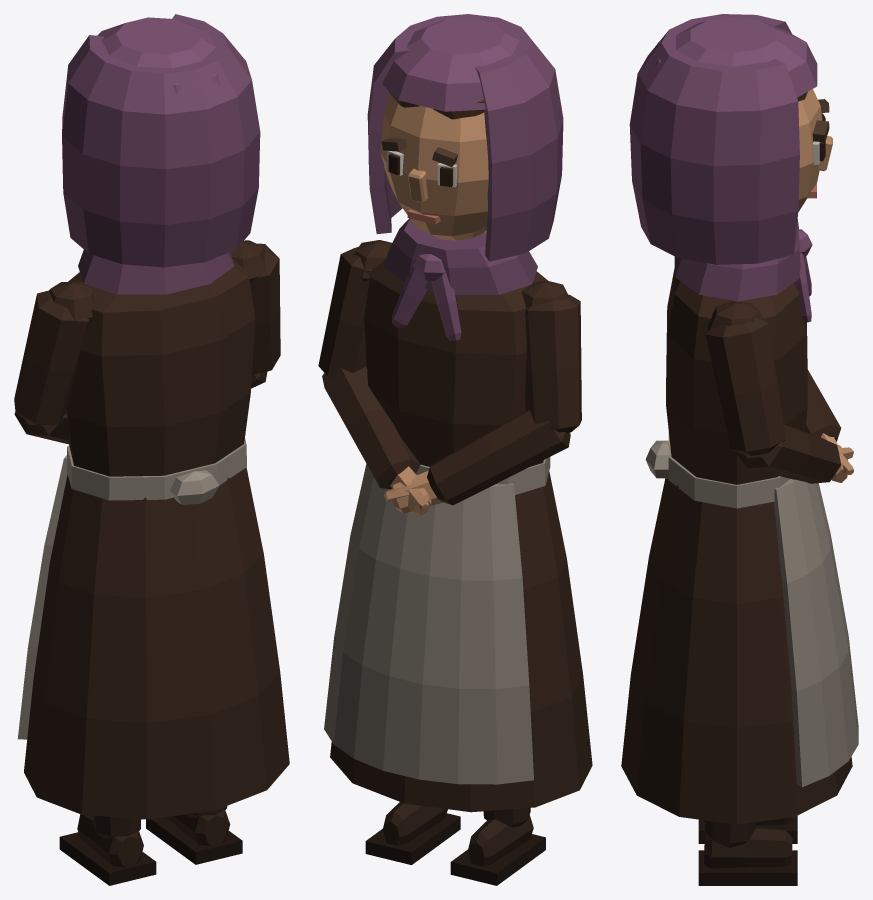
The model's file is chr_helena.glb.
3 views of the same model, side by side, from view 1: azimuth 30°, elevation 25°; view 2: azimuth 150°, elevation 25°; view 3: azimuth 270°, elevation 25° (orthographic).
Parts seen in each view (by area): view 1: chr_helena_stand; view 2: chr_helena_stand; view 3: chr_helena_stand.
Part boxes in pixels (x1,y1,x2,y2): chr_helena_stand: (14, 14, 289, 885); chr_helena_stand: (318, 14, 592, 885); chr_helena_stand: (621, 14, 858, 885).
Bounding box in the file's own units: 0.5349 × 1.62 × 0.4258.
